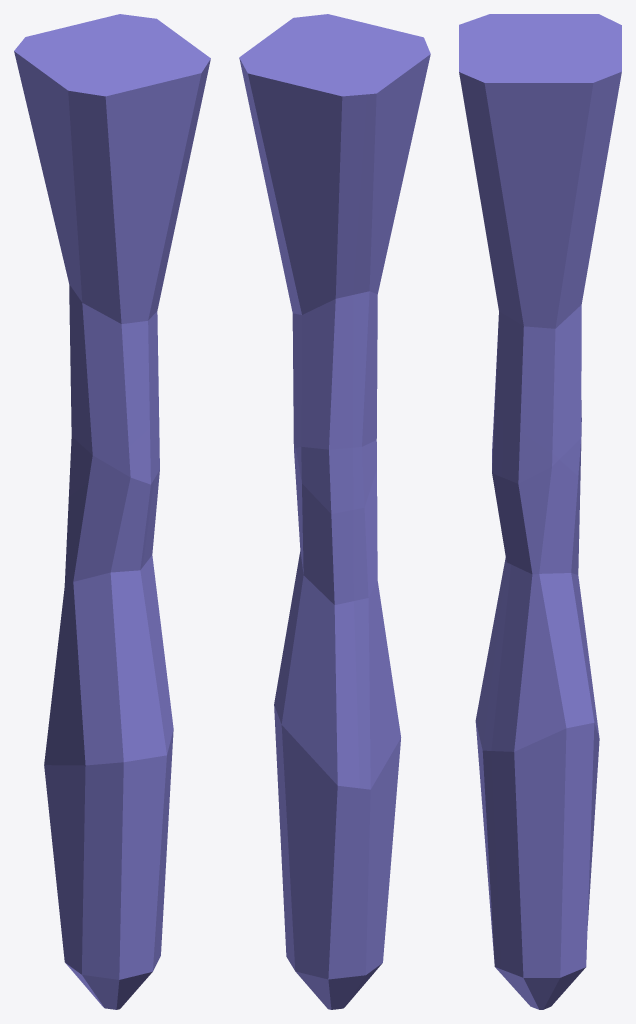
The model's file is broken-stalactite.glb.
3 views of the same model, side by side, from view 1: azimuth 30°, elevation 25°; view 2: azimuth 150°, elevation 25°; view 3: azimuth 270°, elevation 25° (orthographic).
Visible parts, largest first — view 1: break-away-rigid, break-away.001-rigid, break-away.003-rigid, break-away.002-rigid; view 2: break-away.003-rigid, break-away.002-rigid, break-away.001-rigid, break-away-rigid; view 3: break-away.002-rigid, break-away.003-rigid, break-away.001-rigid, break-away-rigid.
Boxes of the visible parts, <box> form: break-away-rigid: <box>44,424,168,1009</box>; break-away.001-rigid: <box>14,47,203,495</box>; break-away.003-rigid: <box>17,14,210,423</box>; break-away.002-rigid: <box>100,416,173,1009</box>; break-away.003-rigid: <box>239,15,367,513</box>; break-away.002-rigid: <box>274,436,359,1009</box>; break-away.001-rigid: <box>320,14,430,509</box>; break-away-rigid: <box>345,470,401,1006</box>; break-away.002-rigid: <box>491,421,599,1009</box>; break-away.003-rigid: <box>465,17,621,482</box>; break-away.001-rigid: <box>459,14,604,420</box>; break-away-rigid: <box>475,417,521,996</box>.
Bounding box in the file's own units: 0.3245 × 2.1 × 0.3245.
